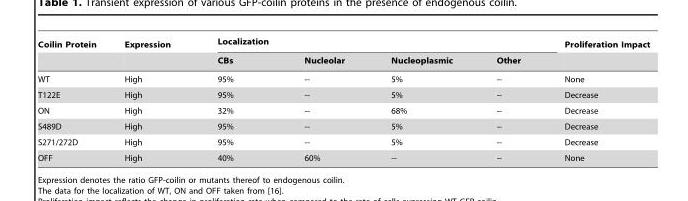table: (37, 36, 649, 162)
table column: (541, 36, 649, 162), (367, 36, 473, 162), (268, 36, 367, 162), (109, 36, 193, 162), (193, 36, 268, 162), (37, 36, 109, 162), (473, 36, 541, 162)
table column header: (37, 36, 649, 69)
table row: (37, 52, 649, 69), (37, 69, 649, 86), (37, 36, 649, 52), (37, 86, 649, 102), (37, 102, 649, 118), (37, 118, 649, 134), (37, 134, 649, 149), (37, 149, 649, 162)
table spanning cell: (193, 36, 541, 52), (541, 36, 649, 69), (109, 36, 193, 69), (37, 36, 109, 69)
